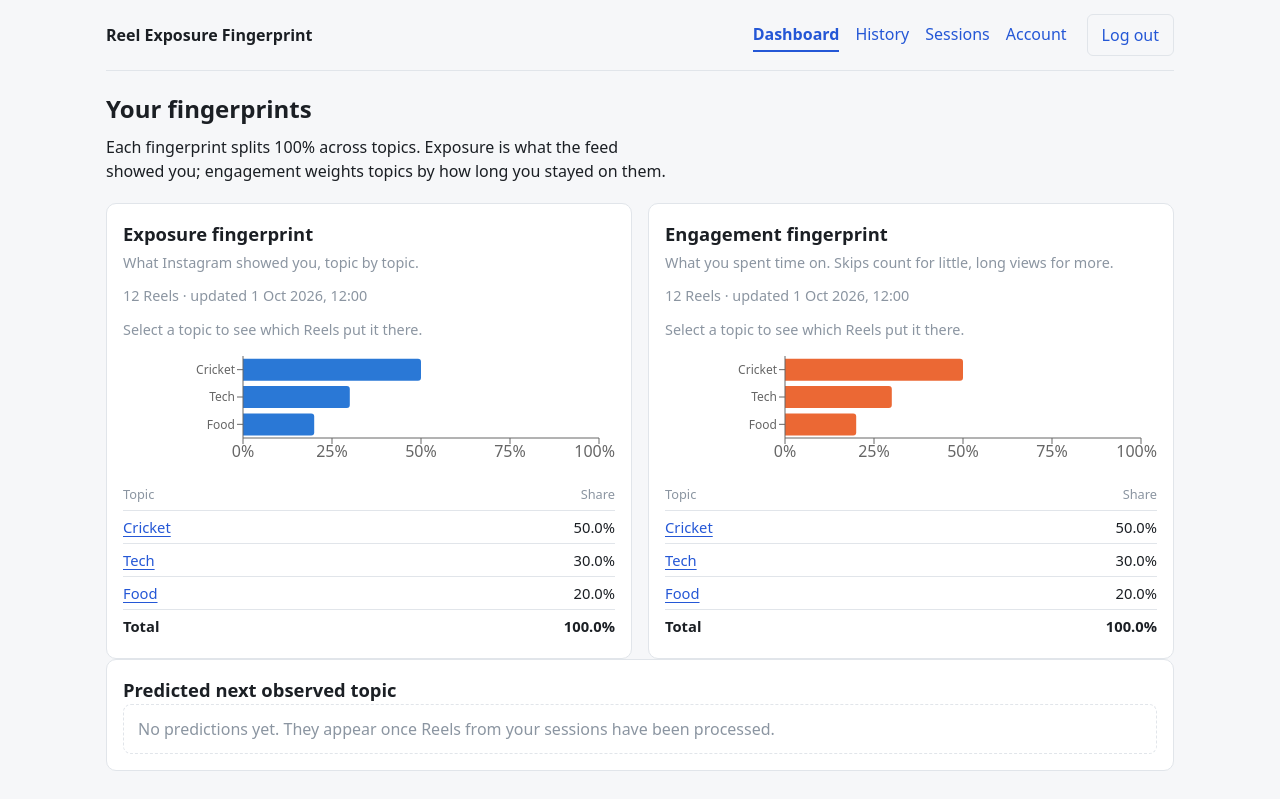
Test: topic evidence › explains an empty answer, and an error offers a retry
Click the button with aria-label "Why Cricket?" at (147, 527), box 123,516 -> 171,538
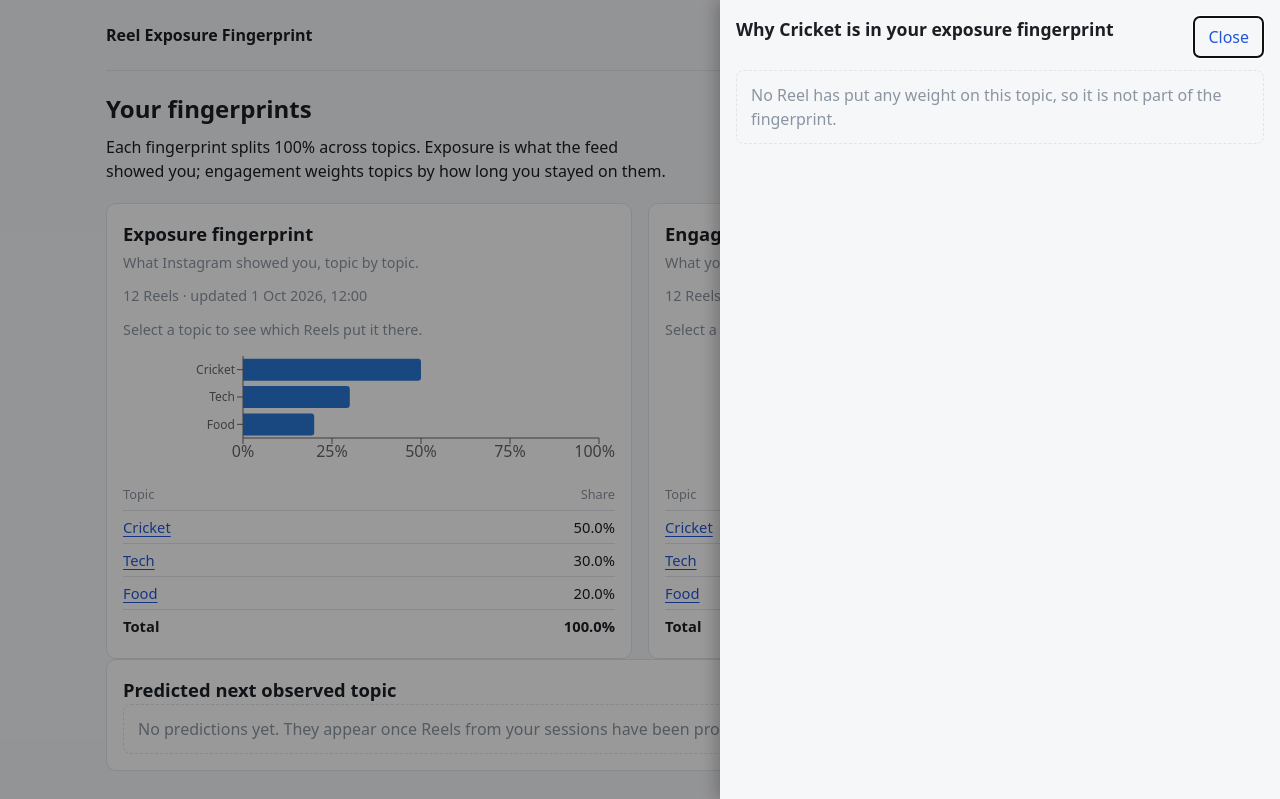
Check: the text "No Reel has put any weight on this topic" is shown, box 751,84 -> 1222,130
